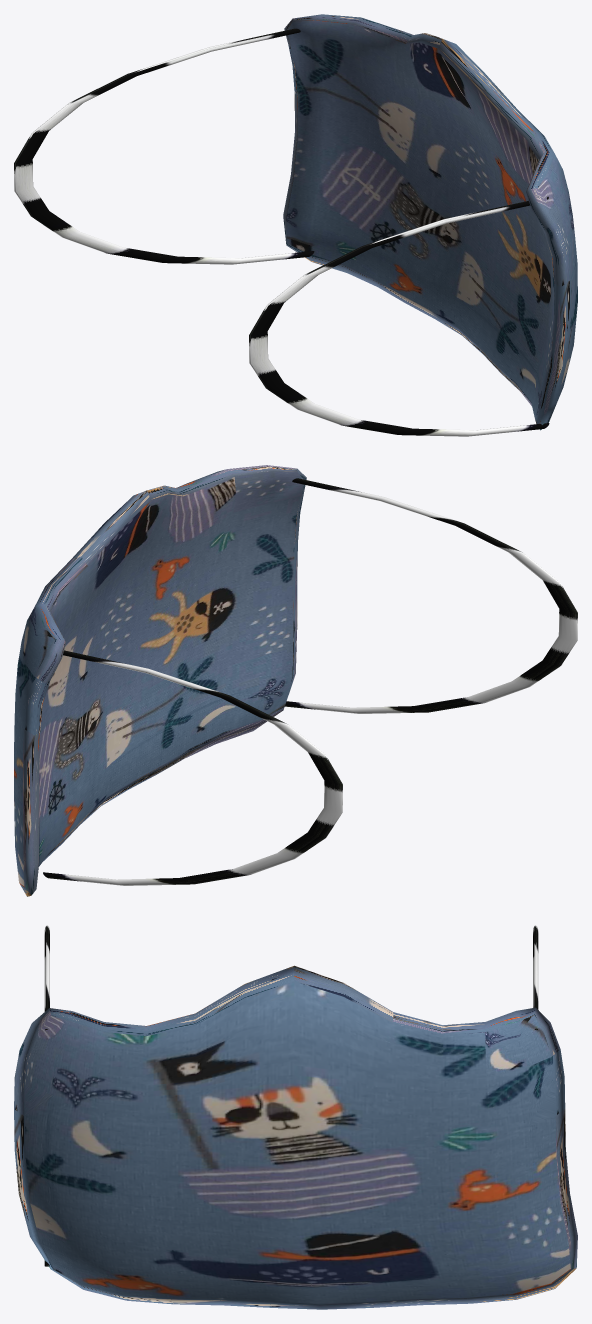
File: cubrebocas.fbx
The picture shows the model from 3 angles, top to bottom: view 1: azimuth 30°, elevation 25°; view 2: azimuth 150°, elevation 25°; view 3: azimuth 270°, elevation 25°; orthographic projection. The views are drawn at different scales.
Visible parts, largest first — view 1: Cube, Curva Bezier.001, Curva Bezier; view 2: Cube, Curva Bezier.001, Curva Bezier; view 3: Cube, Curva Bezier, Curva Bezier.001.
Boxes of the visible parts, left/top/right/bottom form: Cube: left=283, top=14, right=577, bottom=430; Curva Bezier.001: left=14, top=28, right=314, bottom=264; Curva Bezier: left=249, top=196, right=549, bottom=436; Cube: left=14, top=465, right=306, bottom=896; Curva Bezier.001: left=43, top=646, right=342, bottom=885; Curva Bezier: left=285, top=478, right=577, bottom=713; Cube: left=14, top=965, right=577, bottom=1309; Curva Bezier: left=44, top=925, right=49, bottom=1266; Curva Bezier.001: left=533, top=925, right=538, bottom=1030.
Size of the model in its own units: 600 by 486 by 755.
Materials: 2 (2 with a texture image).
